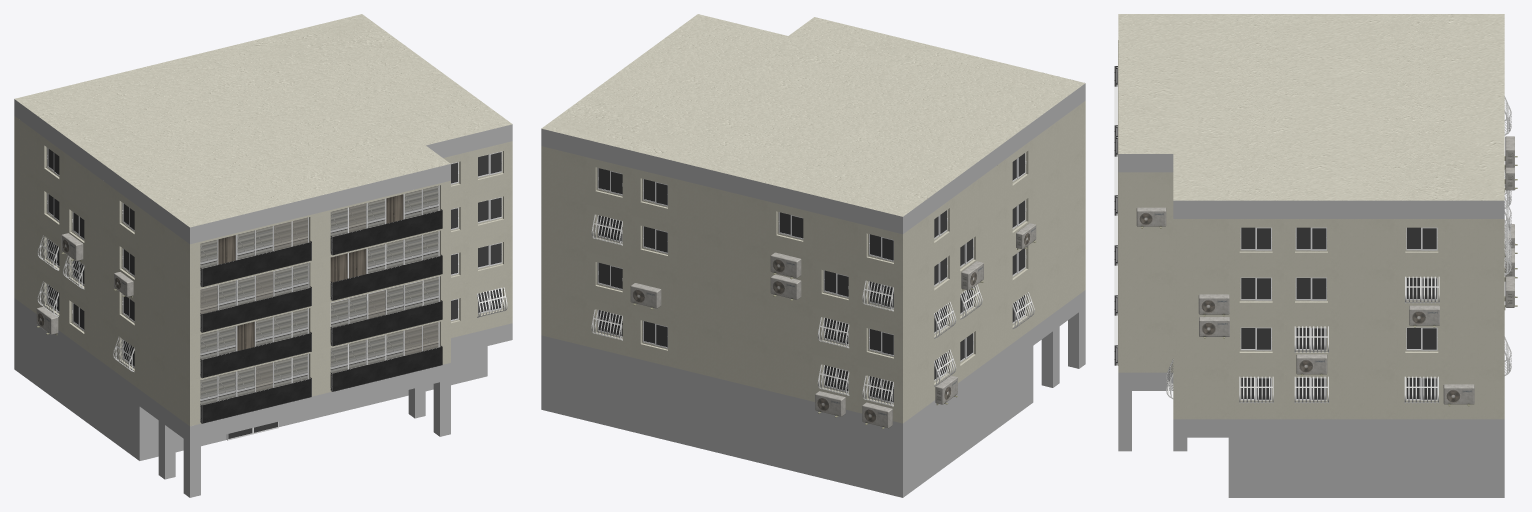
Rendered from SM_Building_01_b.fbx.
3 views of the same model, side by side, from view 1: azimuth 30°, elevation 25°; view 2: azimuth 150°, elevation 25°; view 3: azimuth 270°, elevation 25° (orthographic). The views are drawn at different scales.
Parts seen in each view (by area): view 1: SM_Building_01_b; view 2: SM_Building_01_b; view 3: SM_Building_01_b.
Boxes of the visible parts, x1,y1,x2,y2 form: SM_Building_01_b: (14, 14, 512, 497); SM_Building_01_b: (541, 14, 1085, 497); SM_Building_01_b: (1114, 14, 1517, 497).
Size of the model in its own units: 2538 by 1785 by 2190.
